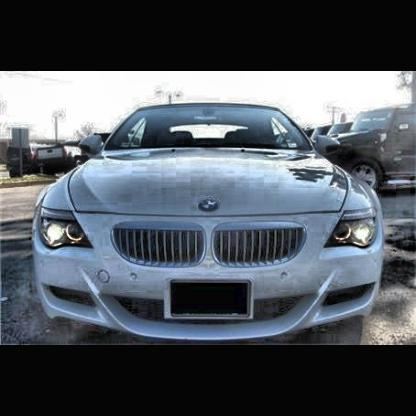BMW M6 Convertible 2010: (34, 102, 385, 342)
